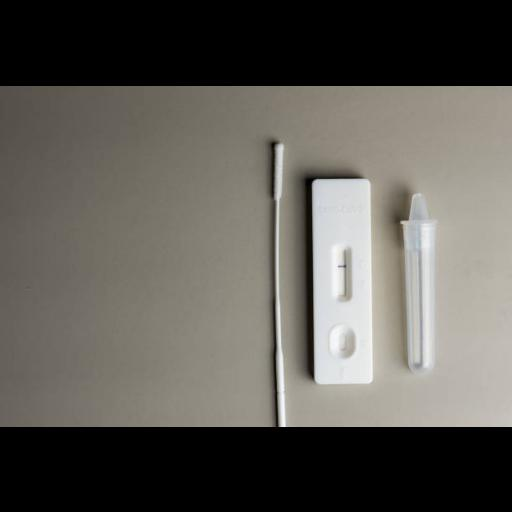Neg: (312, 178, 372, 382)
